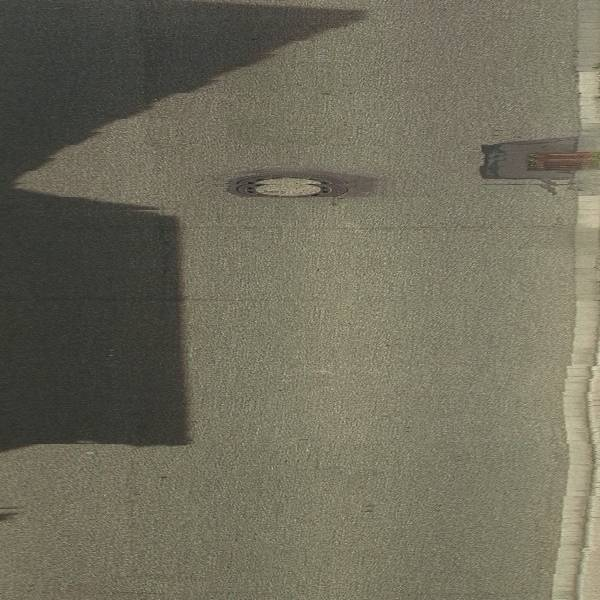road_damage: (471, 132, 571, 194)
